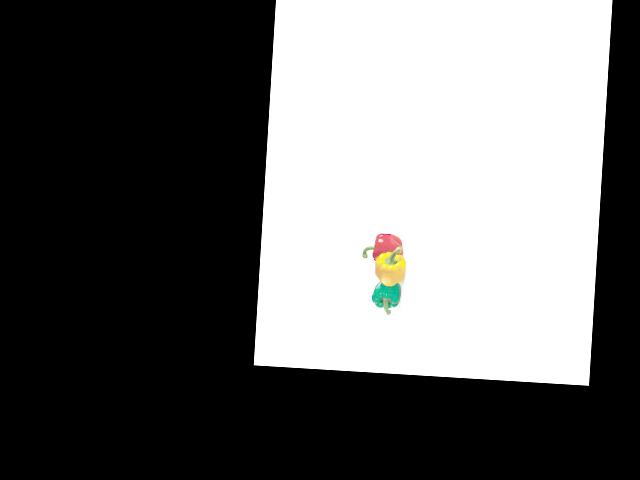bell_pepper: (368, 277, 404, 314)
